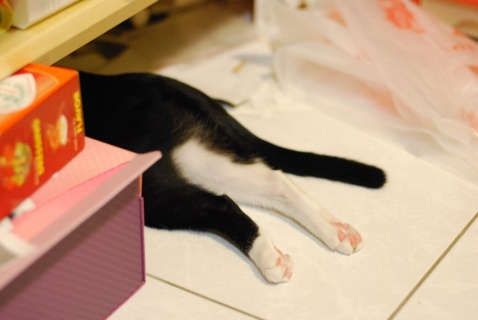Cat: (78, 68, 385, 284)
